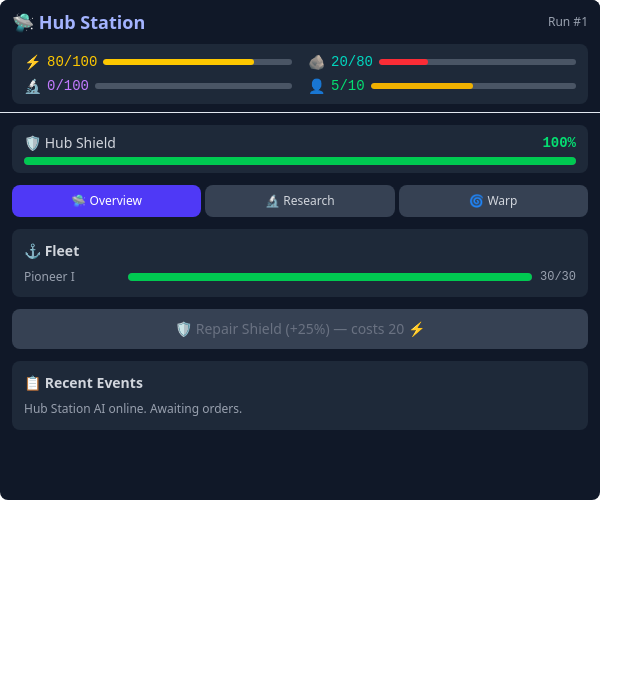
Test: HubStation › can switch to the Warp tab
Click the button "🌀 Warp".
click(493, 201)  # box top-left (399, 185), bottom-right (588, 217)
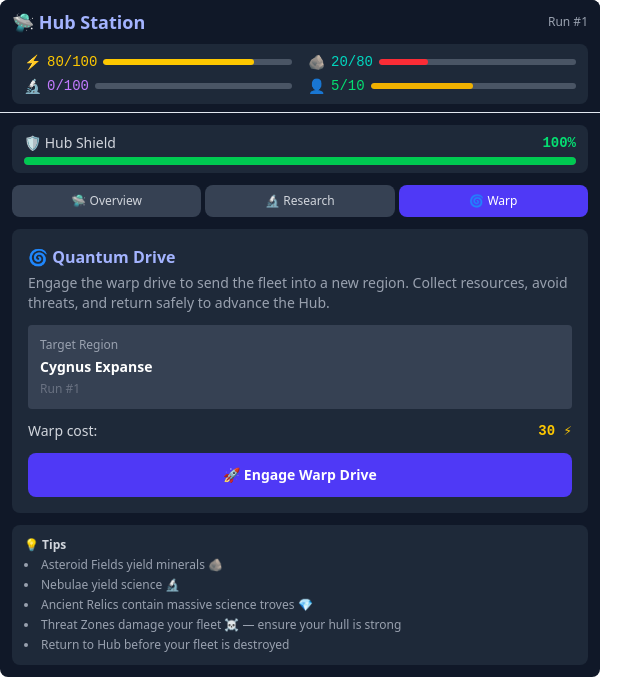
Expected: the button "🚀 Engage Warp Drive" is shown, top-left (28, 453), bottom-right (572, 497)
